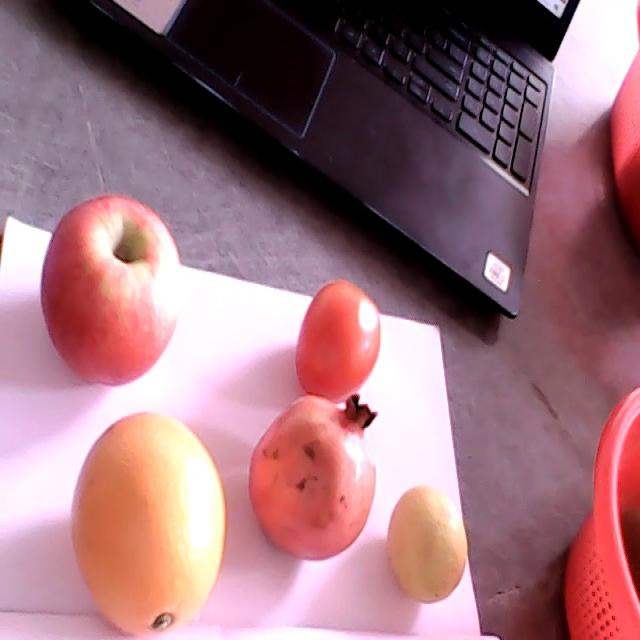apple: (40, 194, 183, 386)
lemon: (388, 485, 467, 605)
orange: (71, 411, 226, 638)
pomegranate: (248, 394, 378, 561)
tomato: (296, 279, 382, 402)
